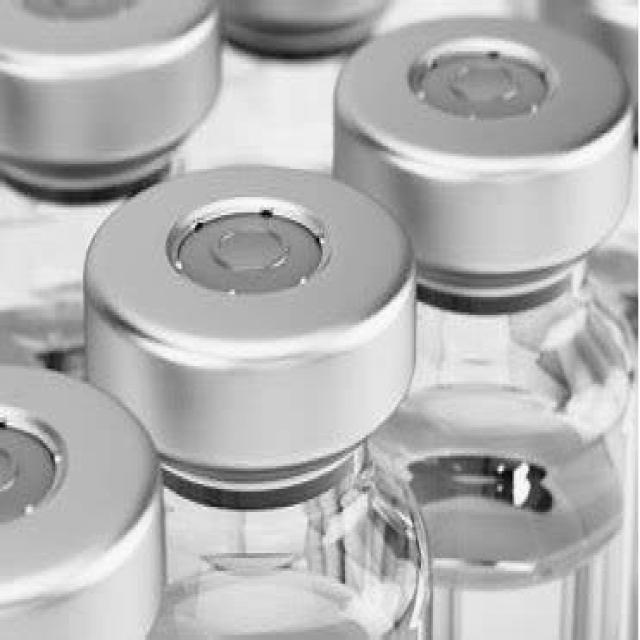vial: (91, 182, 397, 346), (0, 360, 158, 640), (346, 39, 640, 179), (0, 2, 223, 154), (240, 0, 377, 32)
